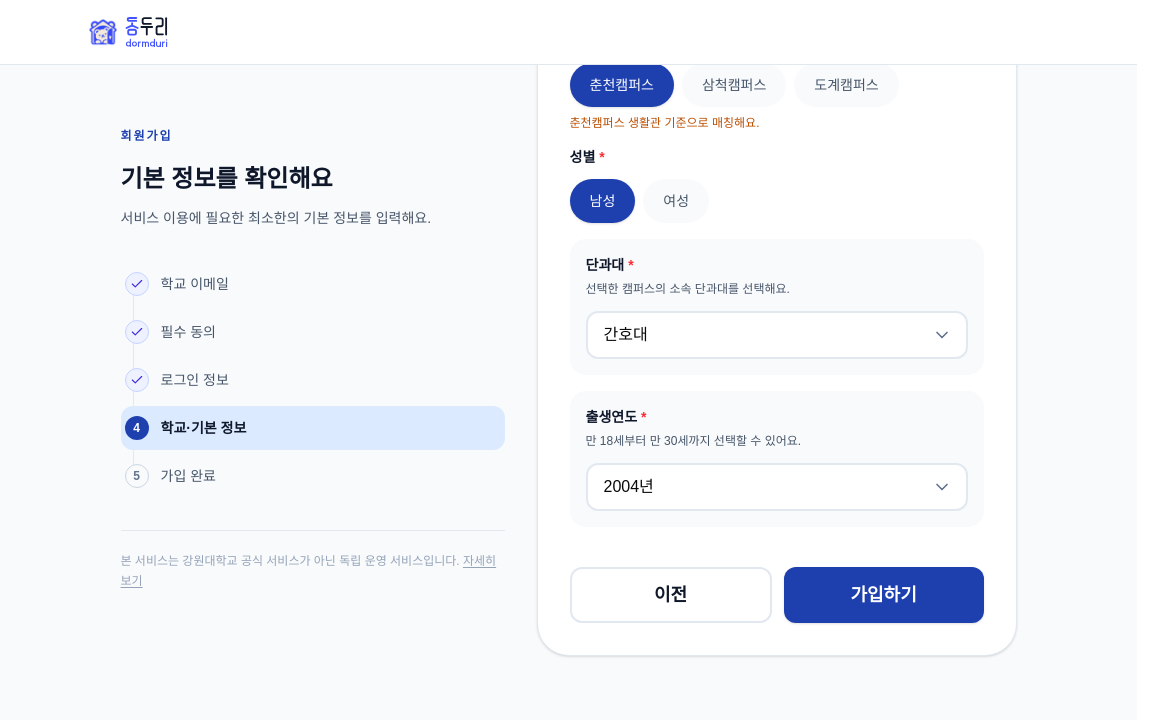
Test: SignupNicknameRaceStoryScenario › Step 4 가입 요청의 닉네임 충돌을 입력이 보존된 Step 3으로 복구한다
The width and height of the screenshot is (1152, 720).
(page scrolled)
What coordinates should you click on to do the following:
click the button "가입하기"
I would click on:
 (884, 595)
Its box is x1=784 y1=567 x2=984 y2=623.
(page scrolled)
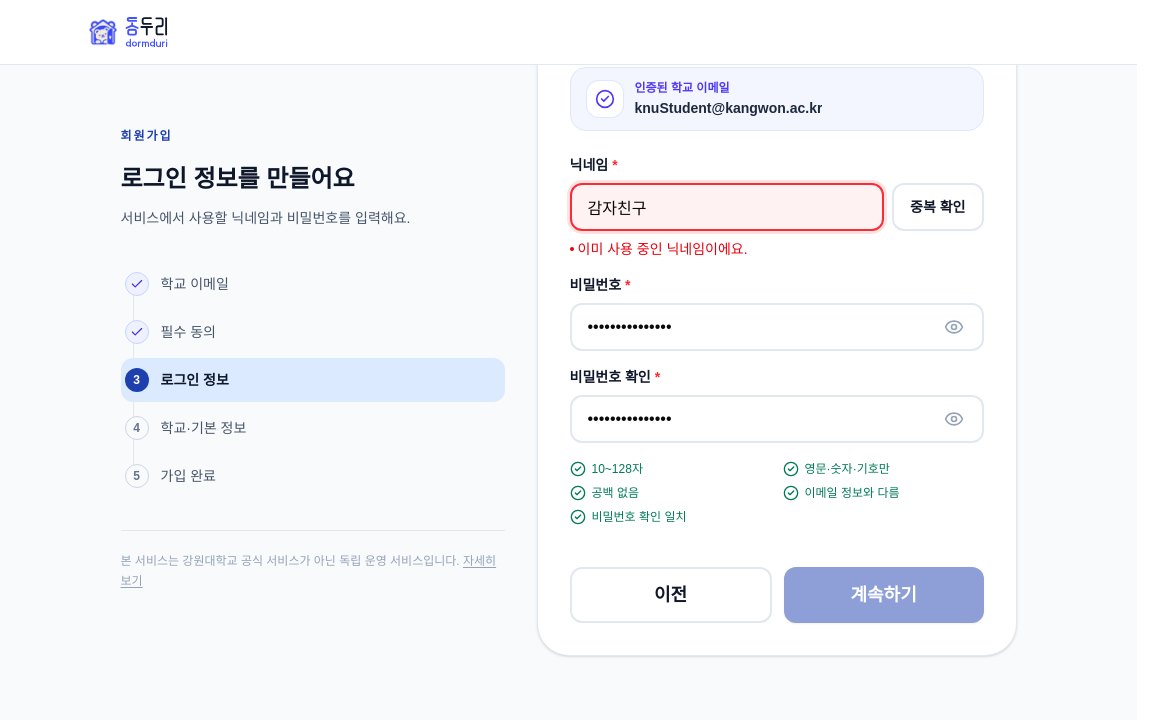
Now the field showing "감자친구" is shown, box x1=570 y1=183 x2=884 y2=231
Now the text "이미 사용 중인 닉네임이에요." is shown, box x1=570 y1=241 x2=748 y2=257
What coordinates should you click on to do the following:
click the button "이전"
I would click on:
 (671, 595)
Its box is x1=570 y1=567 x2=772 y2=623.
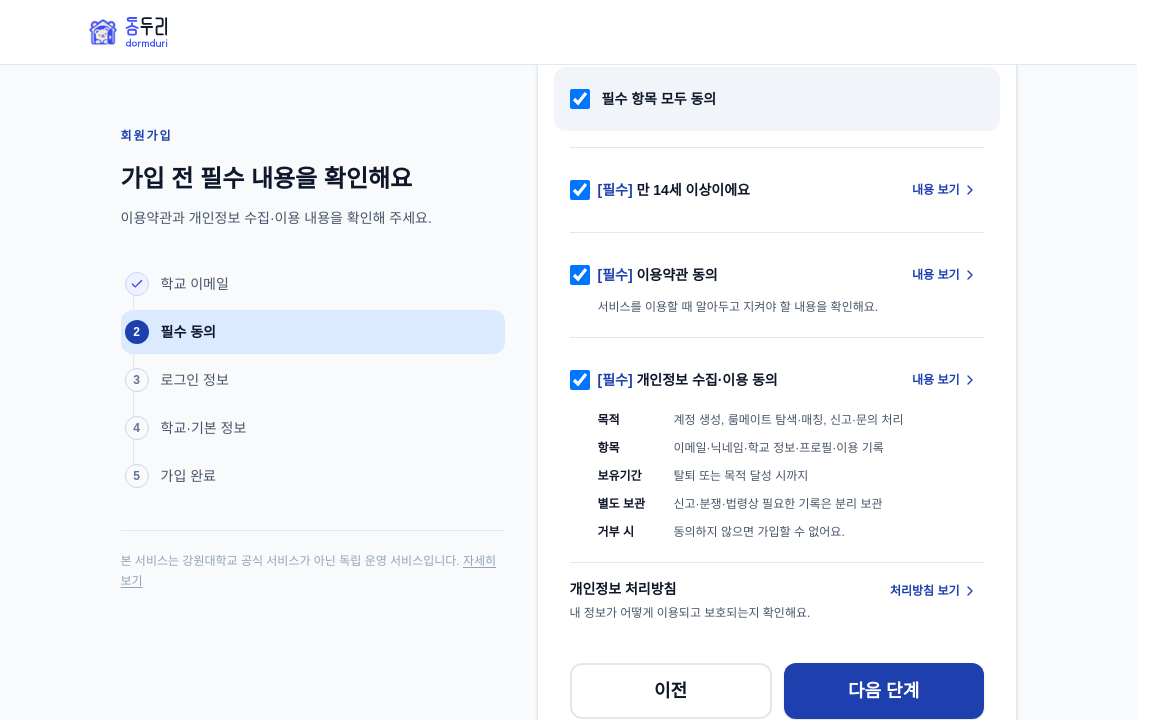
Now the button "다음 단계" is enabled
What coordinates should you click on to do the following:
click the button "다음 단계"
I would click on:
 (884, 691)
Its box is x1=784 y1=663 x2=984 y2=719.
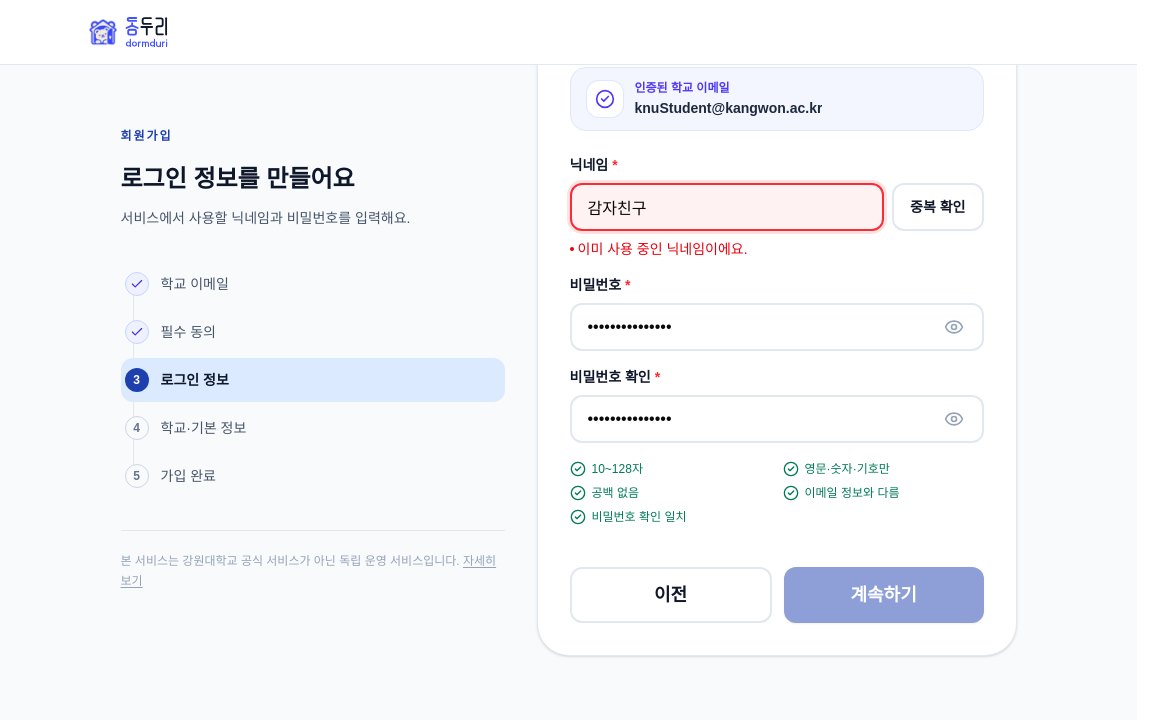
Now the field showing "감자친구" is shown, box x1=570 y1=183 x2=884 y2=231
